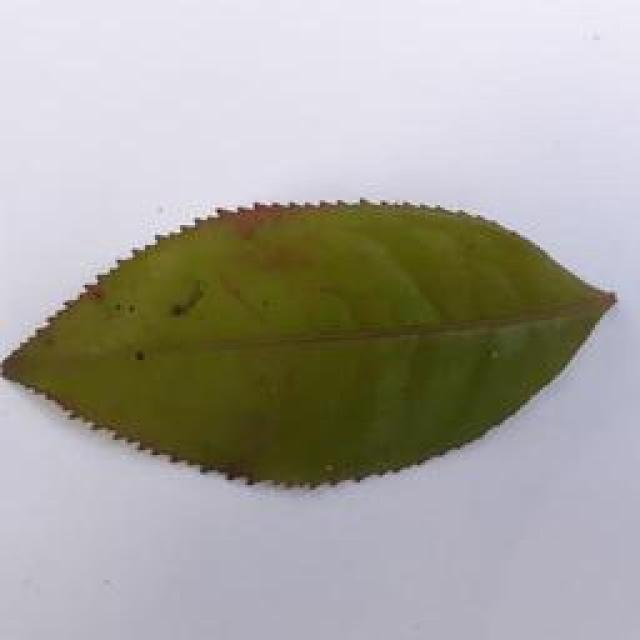Red Leaf Spot: (0, 189, 640, 497)
